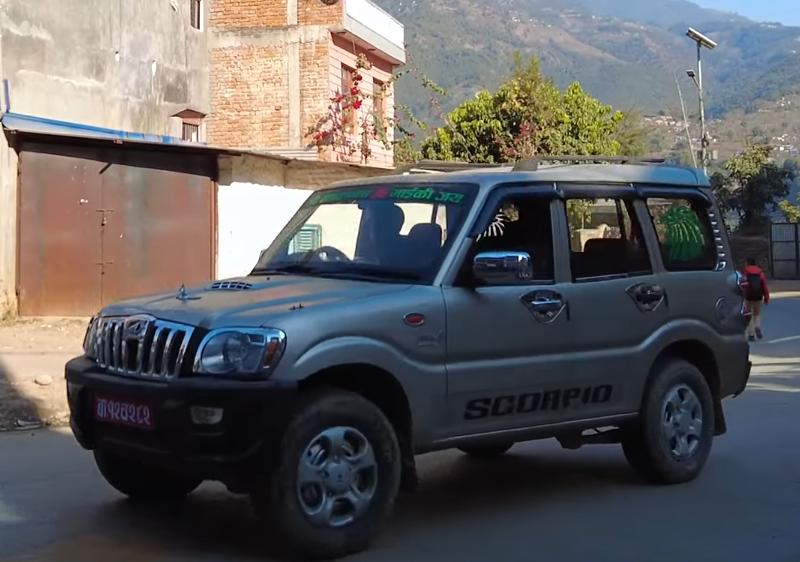SUV: (56, 141, 757, 558)
